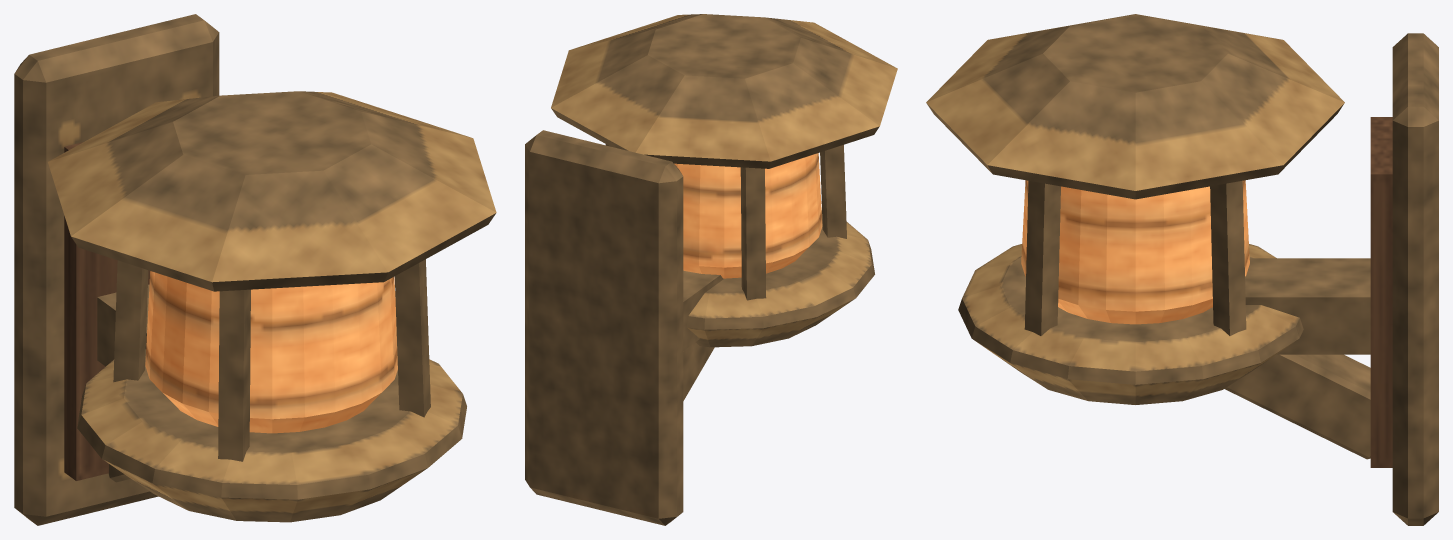
The model's file is WorkshopWallLamp.fbx.
3 views of the same model, side by side, from view 1: azimuth 30°, elevation 25°; view 2: azimuth 150°, elevation 25°; view 3: azimuth 270°, elevation 25° (orthographic). The views are drawn at different scales.
Visible parts, largest first — view 1: WorkshopWallLamp; view 2: WorkshopWallLamp; view 3: WorkshopWallLamp.
Part boxes in pixels (x1=…): WorkshopWallLamp: x1=14, y1=14, x2=496, y2=525; WorkshopWallLamp: x1=525, y1=14, x2=897, y2=525; WorkshopWallLamp: x1=926, y1=14, x2=1438, y2=525.
Bounding box in the file's own units: 0.326 × 0.374 × 0.399.
